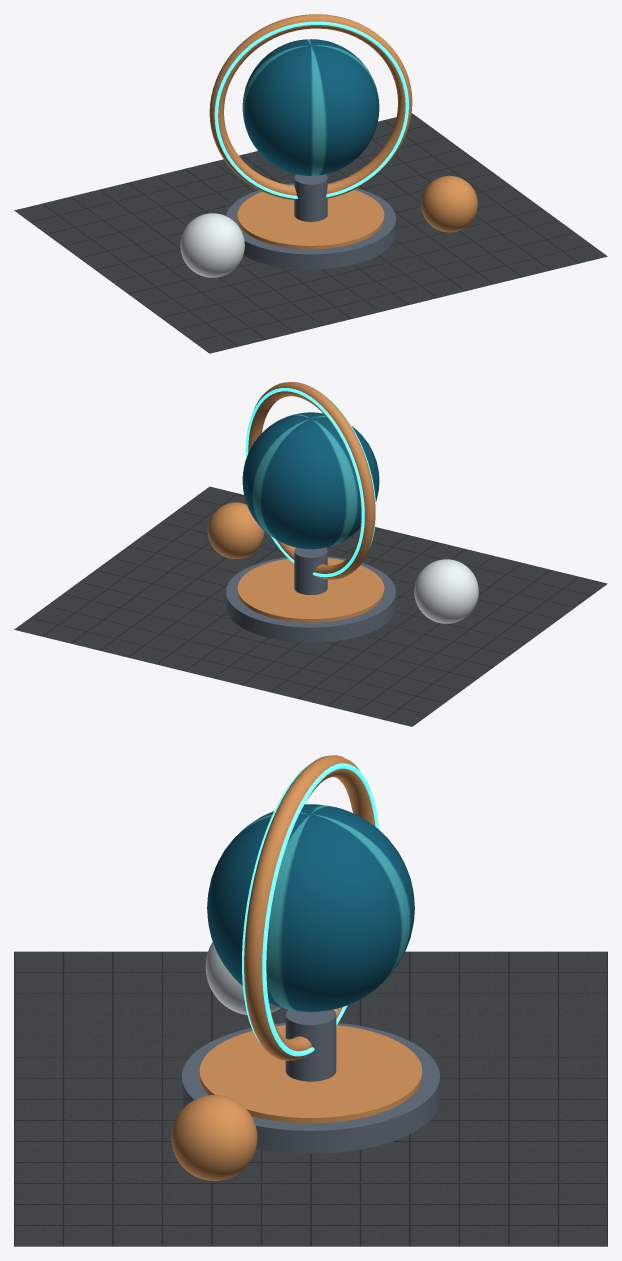
Rendered from studio.glb.
The picture shows the model from 3 angles, top to bottom: view 1: azimuth 30°, elevation 25°; view 2: azimuth 150°, elevation 25°; view 3: azimuth 270°, elevation 25°; orthographic projection. The views are drawn at different scales.
Parts seen in each view (by area): view 1: Floor, Core, Housing, Inset, Plinth, Ceramic sample, Brass sample, Front LED, Support; view 2: Floor, Core, Inset, Plinth, Housing, Ceramic sample, Brass sample, Support, Rear LED; view 3: Floor, Core, Inset, Plinth, Housing, Brass sample, Support, Rear LED, Ceramic sample, Front LED.
Part boxes in pixels (x1,y1,x2,y2): Floor: (14,113,607,353); Core: (242,39,379,175); Housing: (209,14,412,200); Inset: (237,184,384,249); Plinth: (226,183,395,269); Ceramic sample: (180,213,244,277); Brass sample: (421,175,477,232); Front LED: (214,21,408,198); Support: (294,174,327,221); Floor: (14,486,607,726); Core: (242,412,379,549); Inset: (237,558,384,622); Plinth: (226,556,395,642); Housing: (248,382,375,579); Ceramic sample: (414,559,478,623); Brass sample: (207,502,264,558); Support: (294,547,327,594); Rear LED: (245,388,364,577); Floor: (14,951,607,1246); Core: (207,804,414,1011); Inset: (199,1025,422,1123); Plinth: (181,1023,440,1153); Housing: (244,755,375,1060); Brass sample: (171,1095,257,1180); Support: (285,1009,336,1081); Rear LED: (262,763,378,1056); Ceramic sample: (205,942,280,1015); Front LED: (242,764,309,1042).
Bounding box in the file's own units: 4.7 × 2.46 × 4.
6 materials, 2 textured.
